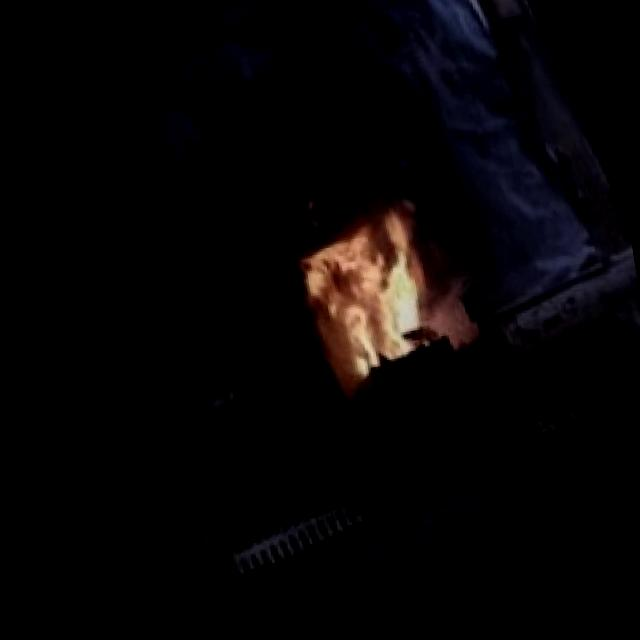fire: (256, 161, 490, 410)
